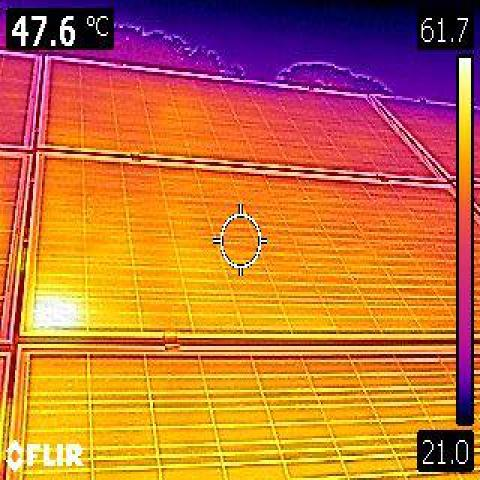fault: (34, 295, 85, 329)
